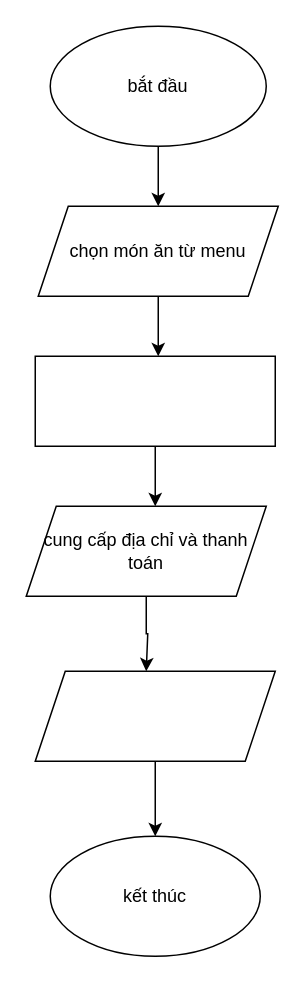
Image size: 305x983. Some labels were removed from this diagram. Each missing label, with the centre of its shape:
nhận món ăn tại địa chỉ đã cung cấp: (x=154, y=715)
xác nhận món ăn trong giỏ hàng: (x=154, y=400)
